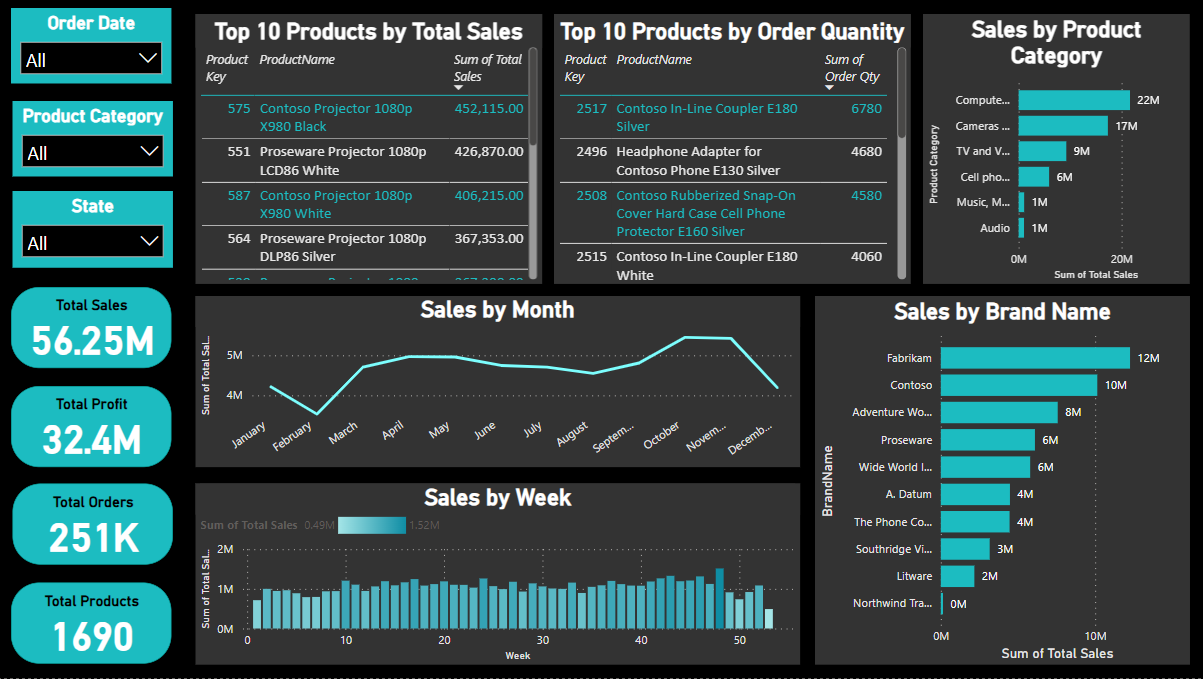

The dashboard page shown, as its layout file describes it:
{"tool":"powerbi","page":{"name":"Page 1","canvas":[1280,720],"ordinal":0},"visuals":[{"type":"clusteredColumnChart","title":"Sales by Week","fields":{"Category":["Sales Data.Week"],"Y":["Sum(Sales Data.Sales)"]},"box":[211.4,513.4,640.5,192.3],"z":0},{"type":"tableEx","title":"Top 10 Products by Order Quantity","fields":{"Values":["Sales Data.ProductKey","Sales Product.ProductName","Sum(Sales Data.Order Qty)"]},"box":[591.3,15.9,378.3,286.1],"z":1000},{"type":"tableEx","title":"Top 10 Products by Total Sales","fields":{"Values":["Sales Data.ProductKey","Sales Product.ProductName","Sum(Sales Data.Total Sales)"]},"box":[211.4,15.9,367.2,286.1],"z":2000},{"type":"clusteredBarChart","title":"Sales by Brand Name","fields":{"Category":["Sales Product.BrandName"],"Y":["Sum(Sales Data.Total Sales)"]},"box":[867.8,314.7,397.4,391],"z":3000},{"type":"clusteredBarChart","title":"Sales by Product Category","fields":{"Y":["Sum(Sales Data.Total Sales)"],"Category":["Sales Product Sub Category.Product Category"]},"box":[982.3,15.9,282.9,286.1],"z":4000},{"type":"slicer","title":"Order Date","fields":{"Values":["Sales Data.Order Date"]},"box":[15.9,9.5,170,80],"z":5000},{"type":"card","title":"Total Sales","fields":{"Values":["Sum(Sales Data.Total Sales)"]},"box":[16.4,304.9,170,86],"z":6000},{"type":"card","title":"Total Profit","fields":{"Values":["Sum(Sales Data.Total Profit)"]},"box":[16.7,409.4,170,86],"z":7000},{"type":"card","title":"Total Orders","fields":{"Values":["Sum(Sales Data.Order Qty)"]},"box":[17,513.8,170,86],"z":8000},{"type":"card","title":"Total Products","fields":{"Values":["CountNonNull(Sales Product.ProductKey)"]},"box":[16.2,618.3,170,86],"z":9000},{"type":"lineChart","title":"Sales by Month","fields":{"Category":["Sales Data.Order Date.Variation.Date Hierarchy.Month"],"Y":["Sum(Sales Data.Total Sales)"]},"box":[211.4,314.7,640.5,181.2],"z":10000},{"type":"slicer","title":"Product Category","fields":{"Values":["Sales Product Sub Category.Product Category"]},"box":[17.5,108,170,80],"z":11000},{"type":"slicer","title":"State","fields":{"Values":["Sales State.State"]},"box":[17.5,203.4,170.1,81.1],"z":12000}]}

Visuals, with their boxes in screenshot pixels (x1, y1, x2, y2), scaled from the page's 1280x720 canvas onto the 1203x679 screenshot:
"Sales by Week" clusteredColumnChart: [199, 484, 801, 666]
"Top 10 Products by Order Quantity" tableEx: [556, 15, 911, 285]
"Top 10 Products by Total Sales" tableEx: [199, 15, 544, 285]
"Sales by Brand Name" clusteredBarChart: [816, 297, 1189, 666]
"Sales by Product Category" clusteredBarChart: [923, 15, 1189, 285]
"Order Date" slicer: [15, 9, 175, 84]
"Total Sales" card: [15, 288, 175, 369]
"Total Profit" card: [16, 386, 175, 467]
"Total Orders" card: [16, 485, 176, 566]
"Total Products" card: [15, 583, 175, 664]
"Sales by Month" lineChart: [199, 297, 801, 468]
"Product Category" slicer: [16, 102, 176, 177]
"State" slicer: [16, 192, 176, 268]
